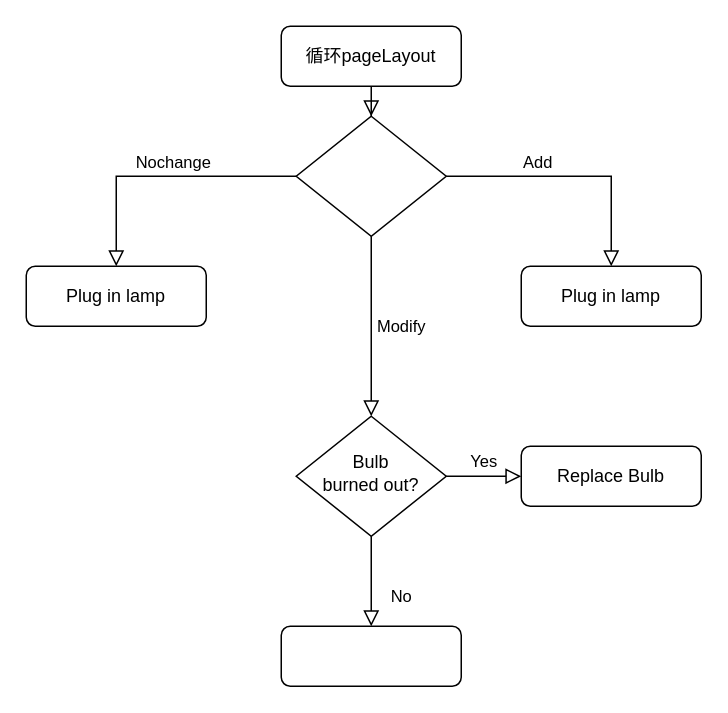
Some shapes in this 728 by 713 pixel diagram are drawn without their labels. Here are the shapes that lost their labels. From the top down, the box of each, then its label:
(295, 115, 446, 236): rowStatus
(280, 625, 461, 686): Repair Lamp
